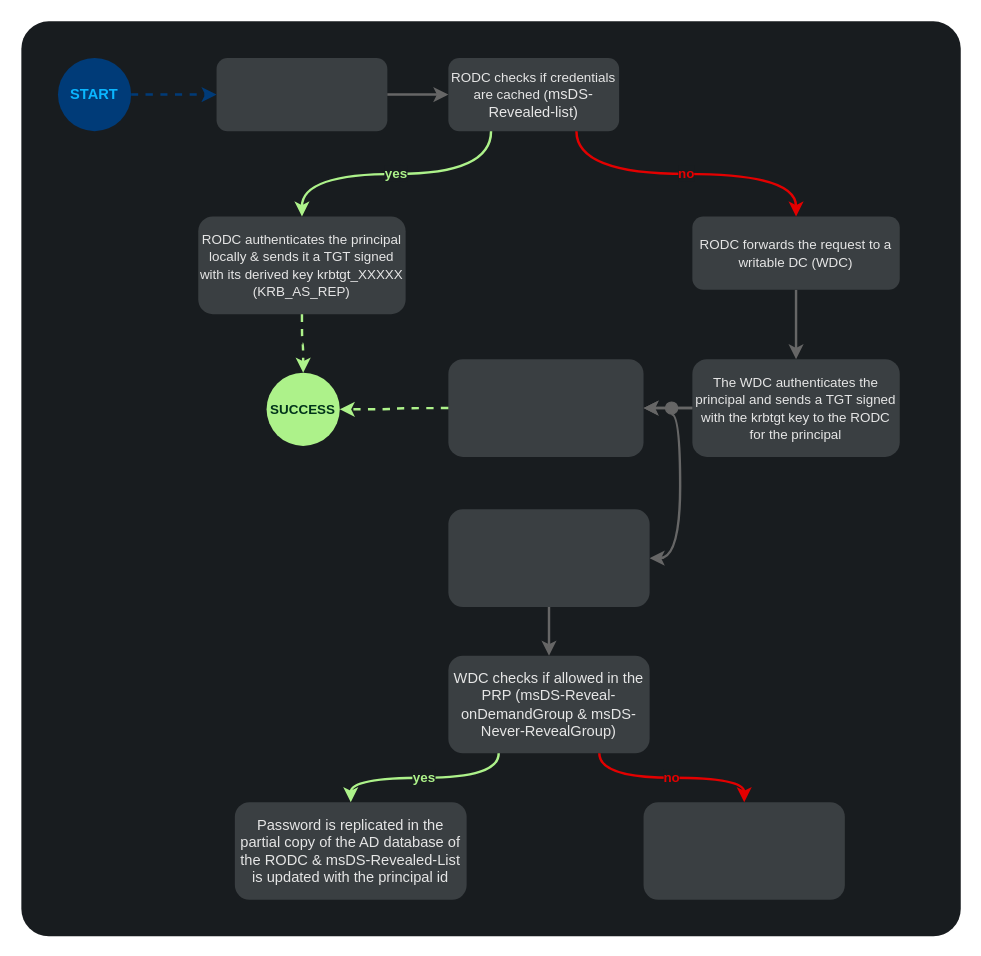
Some shapes in this 981 by 956 pixel diagram are drawn without their labels. The shapes that lost their labels are listed below. From the top down, each one's centre as x and y in pixels, then its label:
At pixel 301 94: "User/Computer sends an authentication request to RODC (KRB_AS_REQ)".
At pixel 545 407: "RODC forwards the TGT to the principal (KRB_AS_REP)".
At pixel 548 557: "RODC sends a request to WDC to cache the principal's credentials".
At pixel 743 850: "Password replication is denied.".
